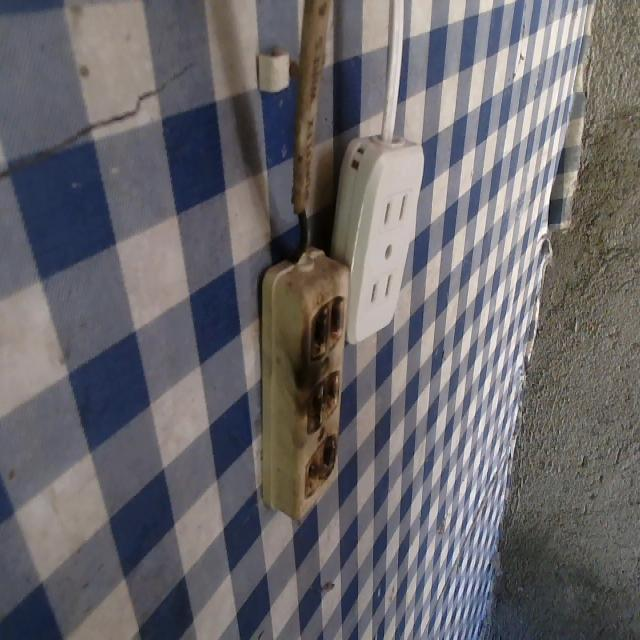-: (300, 289, 345, 363), (300, 366, 342, 434), (302, 431, 343, 500)
